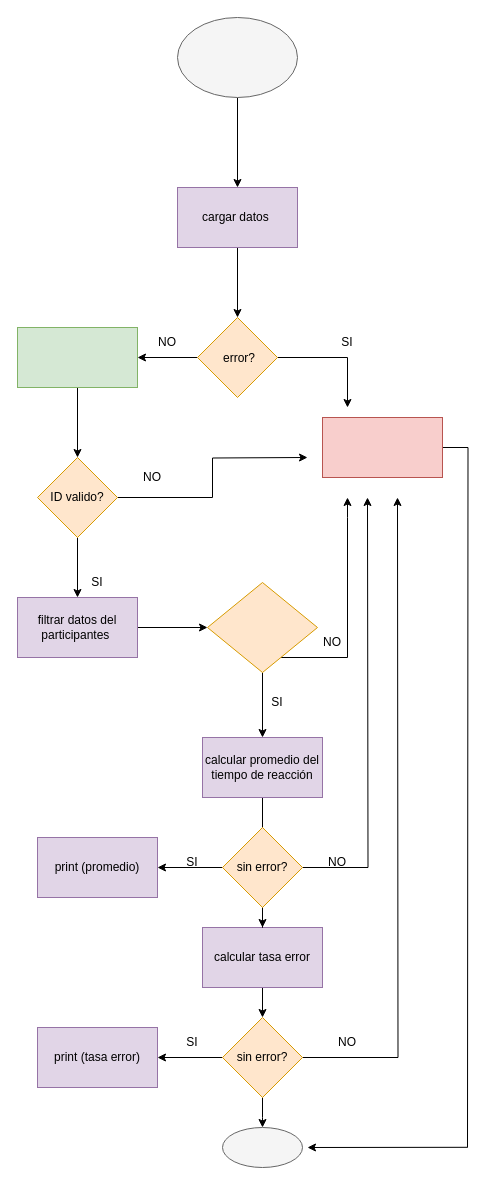
Some shapes in this 493 by 1185 pixel diagram are drawn without their labels. Each missing label, with the box of its shape:
existe el participante?: (206, 582, 318, 672)
FIN: (222, 1126, 302, 1168)
Ingresar ID de participante: (16, 326, 138, 388)
INICIO: (176, 16, 298, 98)
print (ERROR): (322, 416, 442, 478)
